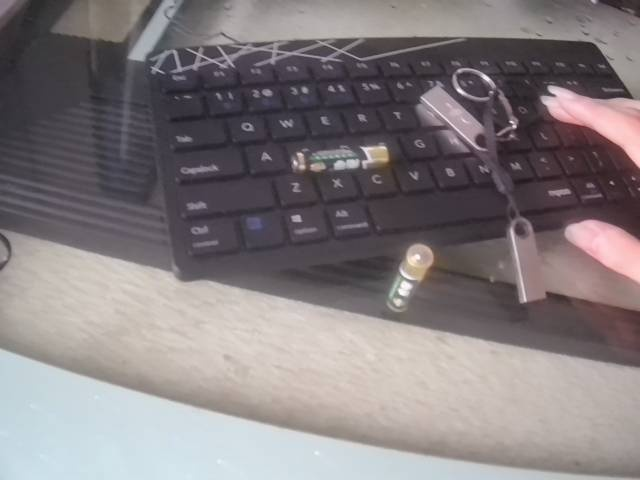U-disk: (415, 74, 528, 159), (504, 209, 551, 308)
battery: (383, 238, 435, 321), (287, 141, 395, 180)
